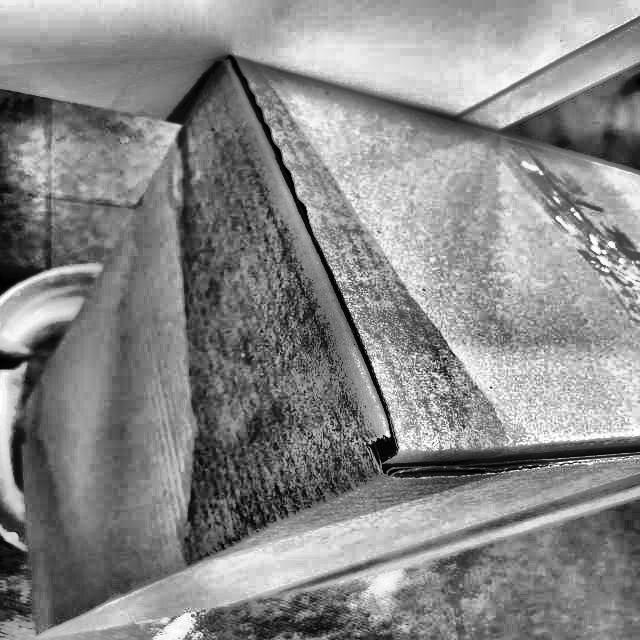box: (24, 46, 639, 639)
wet: (148, 59, 518, 559)
